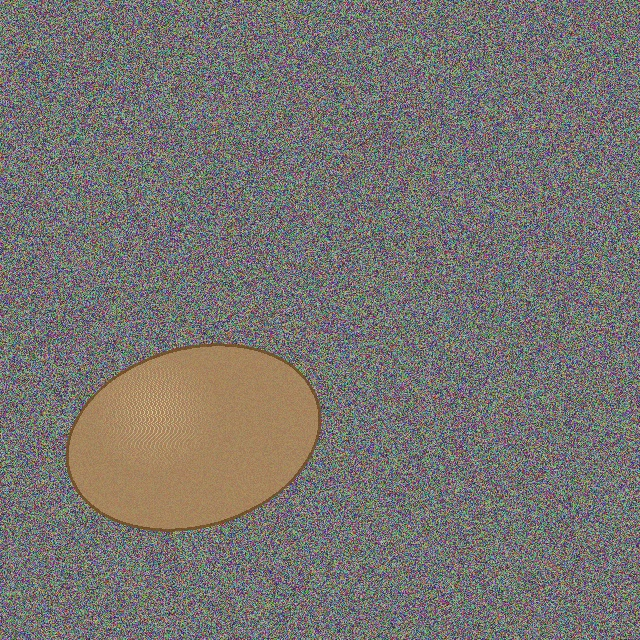lens: (67, 345, 319, 529)
